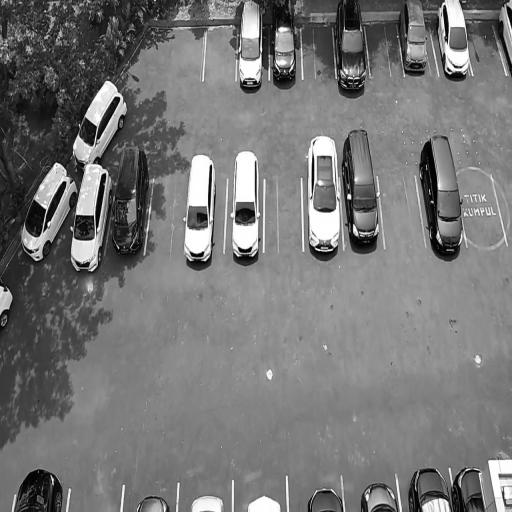Car: (11, 158, 81, 276), (417, 127, 469, 269), (66, 73, 131, 173), (64, 165, 115, 278), (305, 133, 346, 267), (340, 126, 382, 256), (106, 147, 153, 259), (181, 156, 218, 268), (432, 0, 476, 90), (230, 150, 262, 267), (395, 0, 430, 82), (238, 0, 265, 102), (15, 470, 65, 512), (406, 468, 450, 512), (452, 466, 488, 512), (494, 0, 512, 81), (359, 482, 400, 512), (306, 482, 344, 512), (133, 484, 172, 512), (188, 490, 225, 512), (246, 490, 282, 512), (0, 265, 11, 333)
Space Available: (378, 173, 427, 249), (145, 173, 185, 254), (461, 175, 506, 243), (265, 172, 303, 252), (466, 17, 506, 75), (205, 25, 239, 83), (367, 20, 402, 76), (301, 24, 335, 80), (67, 483, 125, 512)
